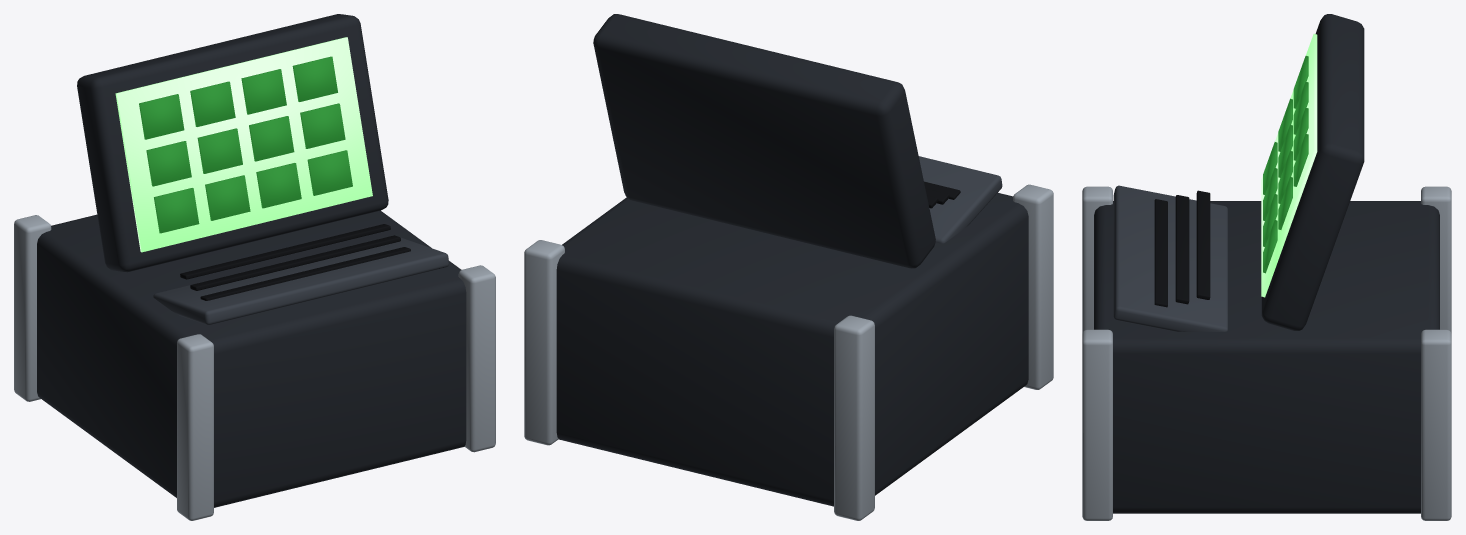
File: rscTerminal.fbx
The picture shows the model from 3 angles, left to right: view 1: azimuth 30°, elevation 25°; view 2: azimuth 150°, elevation 25°; view 3: azimuth 270°, elevation 25°; orthographic projection. The views are drawn at different scales.
Parts seen in each view (by area): view 1: rscTerminal_base, rscTerminal_screen, rscTerminal_housing, rscTerminal_deck, rscTerminal_post, rscTerminal_post.002, rscTerminal_post.001, rscTerminal_keys3, rscTerminal_keys2, rscTerminal_cell12, rscTerminal_cell01, rscTerminal_cell10 (+10 smaller); view 2: rscTerminal_base, rscTerminal_housing, rscTerminal_post.001, rscTerminal_post.003, rscTerminal_post, rscTerminal_deck; view 3: rscTerminal_base, rscTerminal_housing, rscTerminal_deck, rscTerminal_post.002, rscTerminal_post.003, rscTerminal_screen, rscTerminal_post, rscTerminal_post.001, rscTerminal_keys2, rscTerminal_keys3, rscTerminal_keys1, rscTerminal_cell32.
Part boxes in pixels (bbox=[...]): rscTerminal_base: bbox=[37, 210, 466, 507]; rscTerminal_screen: bbox=[115, 37, 372, 252]; rscTerminal_housing: bbox=[77, 14, 388, 272]; rscTerminal_deck: bbox=[153, 237, 448, 324]; rscTerminal_post: bbox=[177, 334, 213, 520]; rscTerminal_post.002: bbox=[458, 265, 495, 452]; rscTerminal_post.001: bbox=[14, 215, 51, 401]; rscTerminal_keys3: bbox=[180, 224, 390, 279]; rscTerminal_keys2: bbox=[190, 235, 400, 290]; rscTerminal_cell12: bbox=[190, 81, 235, 126]; rscTerminal_cell01: bbox=[146, 141, 191, 186]; rscTerminal_cell10: bbox=[205, 175, 250, 220]; rscTerminal_base: bbox=[556, 193, 1028, 506]; rscTerminal_housing: bbox=[593, 14, 935, 268]; rscTerminal_post.001: bbox=[834, 315, 874, 520]; rscTerminal_post.003: bbox=[524, 240, 564, 445]; rscTerminal_post: bbox=[1013, 184, 1053, 389]; rscTerminal_deck: bbox=[918, 156, 1002, 243]; rscTerminal_base: bbox=[1094, 201, 1439, 513]; rscTerminal_housing: bbox=[1261, 14, 1364, 330]; rscTerminal_deck: bbox=[1113, 185, 1227, 331]; rscTerminal_post.002: bbox=[1082, 329, 1112, 520]; rscTerminal_post.003: bbox=[1421, 329, 1451, 520]; rscTerminal_screen: bbox=[1261, 33, 1317, 297]; rscTerminal_post: bbox=[1082, 186, 1112, 333]; rscTerminal_post.001: bbox=[1421, 186, 1451, 333]; rscTerminal_keys2: bbox=[1175, 195, 1189, 304]; rscTerminal_keys3: bbox=[1196, 190, 1210, 299]; rscTerminal_keys1: bbox=[1154, 199, 1167, 307]; rscTerminal_cell32: bbox=[1293, 134, 1308, 186].
Size of the model in its own units: 96 by 105 by 96.
